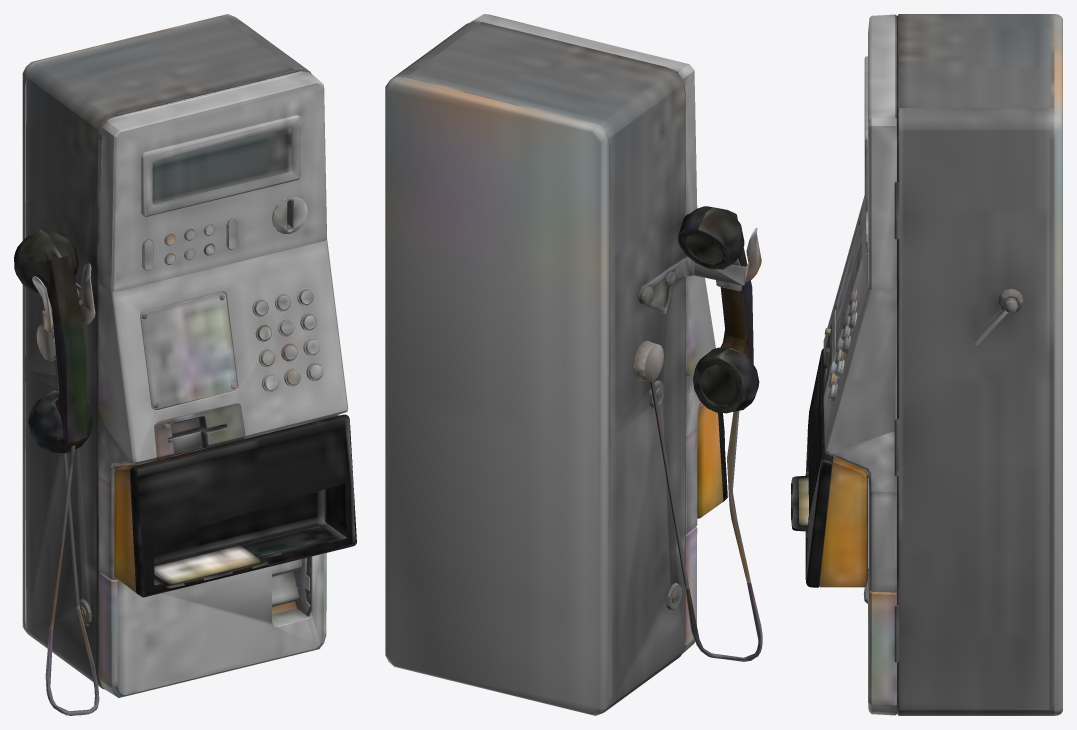
The picture shows the model from 3 angles, left to right: view 1: azimuth 30°, elevation 25°; view 2: azimuth 150°, elevation 25°; view 3: azimuth 270°, elevation 25°; orthographic projection. The views are drawn at different scales.
Parts seen in each view (by area): view 1: korean_public_payphone_01; view 2: korean_public_payphone_01; view 3: korean_public_payphone_01.
Boxes of the visible parts, <box> form: korean_public_payphone_01: <box>14,14,356,715</box>; korean_public_payphone_01: <box>385,14,762,715</box>; korean_public_payphone_01: <box>791,14,1062,715</box>.
Bounding box in the file's own units: 0.4004 × 0.7397 × 0.3006.
Materials: 1 (1 with a texture image).
